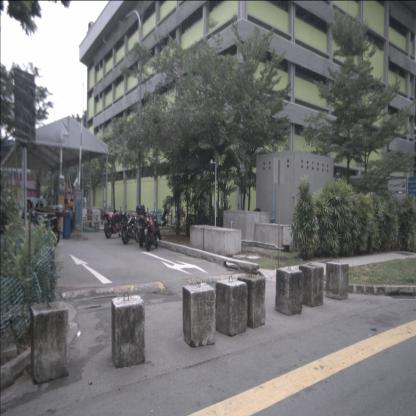barrier: (30, 300, 69, 386), (112, 292, 145, 369), (183, 281, 216, 348), (216, 275, 247, 337), (238, 271, 266, 329), (275, 264, 302, 316), (299, 262, 324, 307), (325, 258, 349, 299)
